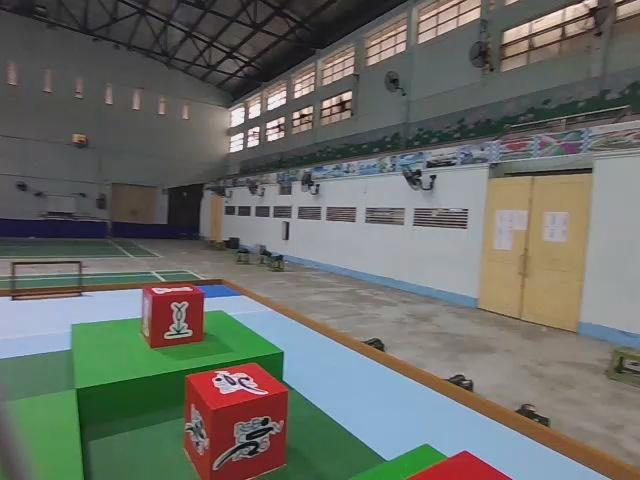R1: (185, 361, 288, 480)
R2 Real: (140, 282, 205, 349)
